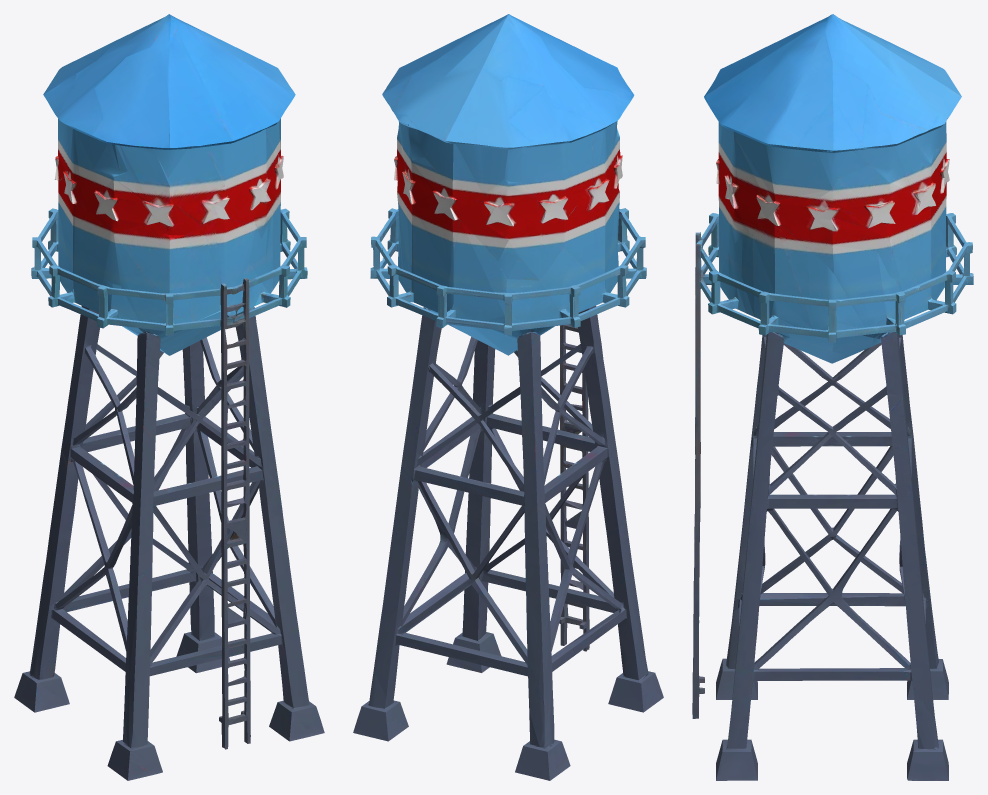
Rendered from water-tower.glb.
3 views of the same model, side by side, from view 1: azimuth 30°, elevation 25°; view 2: azimuth 150°, elevation 25°; view 3: azimuth 270°, elevation 25° (orthographic). The views are drawn at different scales.
Bounding box in the file's own units: 0.6632 × 1.86 × 0.6616.
Materials: 1 (1 with a texture image).
